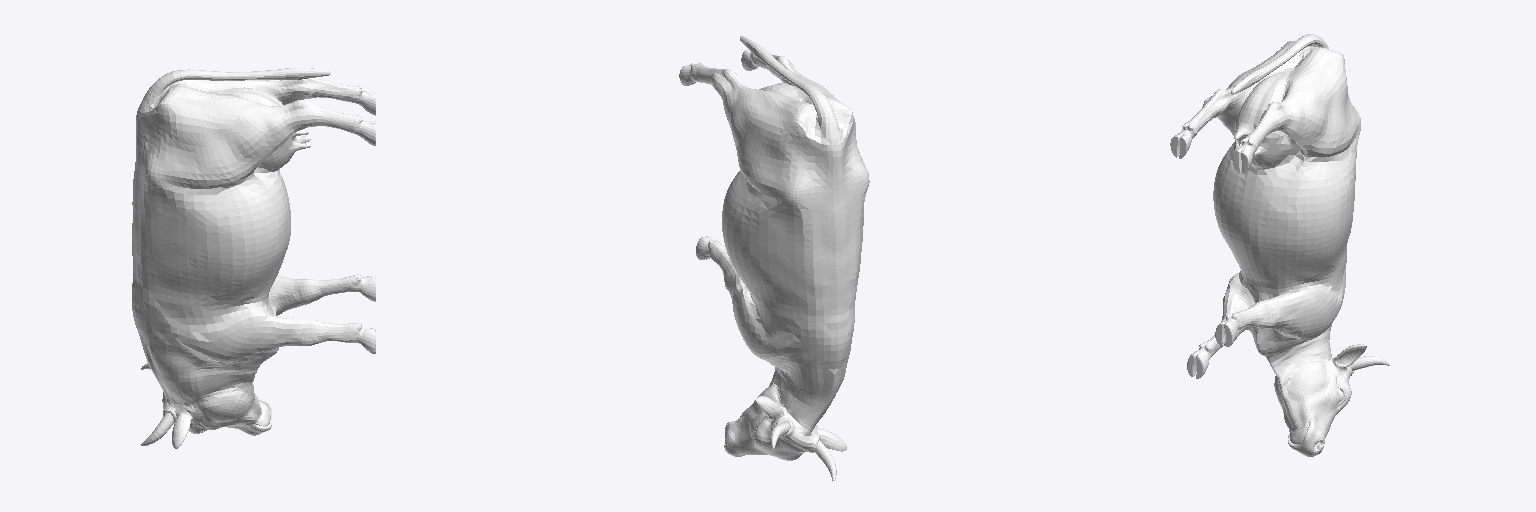
Rendered from cow.obj.
3 renders of one model, left to right at view 1: azimuth 30°, elevation 25°; view 2: azimuth 150°, elevation 25°; view 3: azimuth 270°, elevation 25°, orthographic.
Parts seen in each view (by area): view 1: Object.1; view 2: Object.1; view 3: Object.1.
Part boxes in pixels (left/top/right/bottom): Object.1: left=132, top=68, right=375, bottom=448; Object.1: left=679, top=36, right=869, bottom=481; Object.1: left=1170, top=34, right=1389, bottom=456.
Bounding box in the file's own units: 1.68 × 2.98 × 1.53.